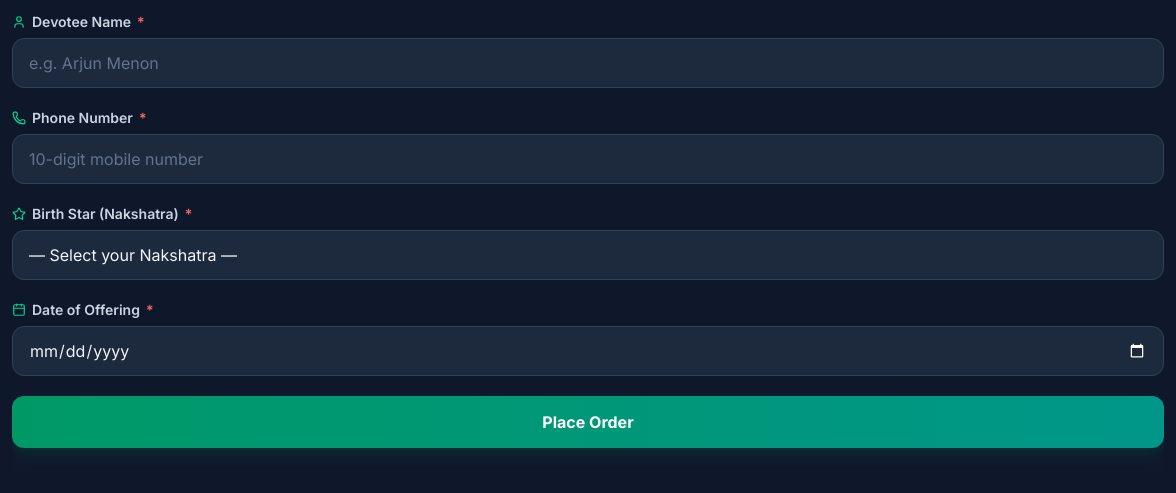
Test: Phase 2: Cart and Order Form › Order Form Validation › throws 10-digit requirement error when phone is invalid
This screenshot has width=1176, height=493.
Type "98765" into the field labelled "Phone Number *" at (588,159), box [12,134,1164,184]
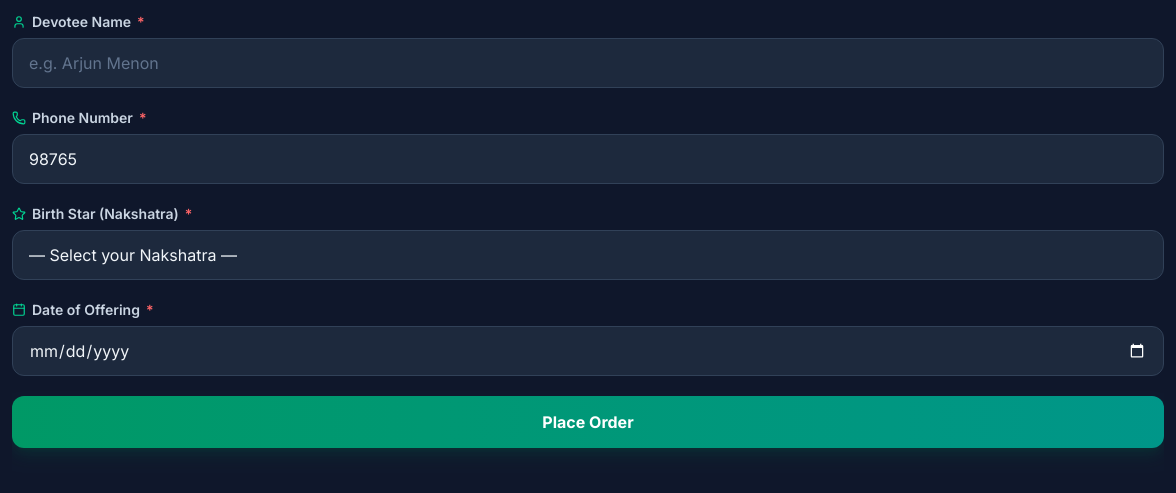
Leave the field labelled "Phone Number *", box [12,134,1164,184]
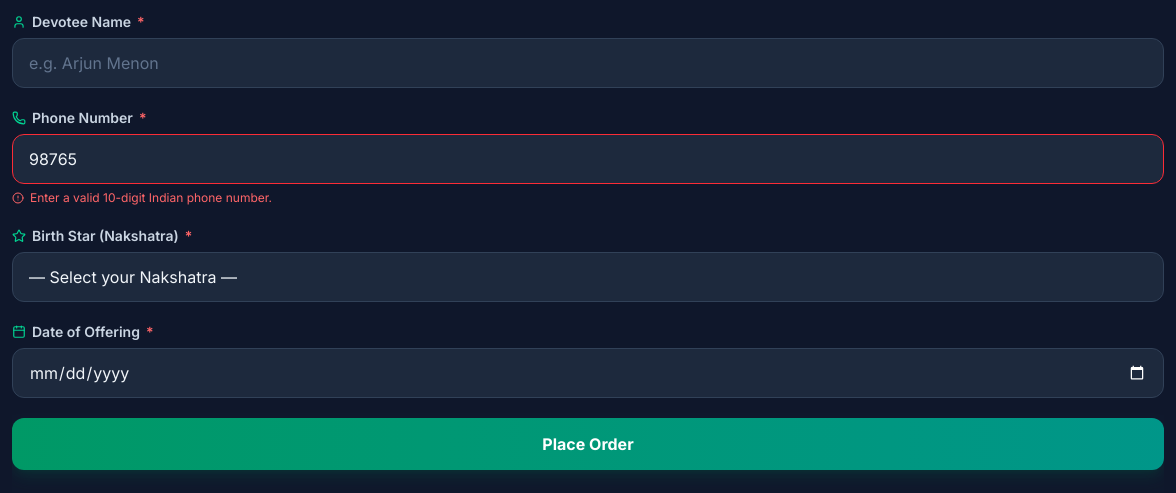
Expected: the text "Enter a valid 10-digit Indian phone number." is shown, [12,190,272,205]
